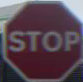Stop: (2, 8, 78, 68)
